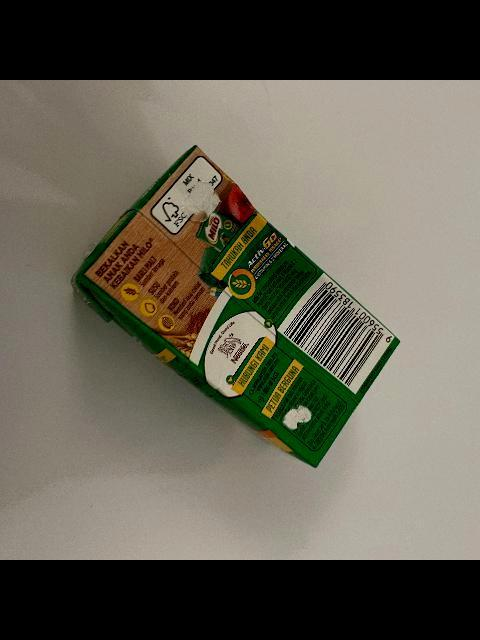drinkpack: (68, 145, 400, 469)
